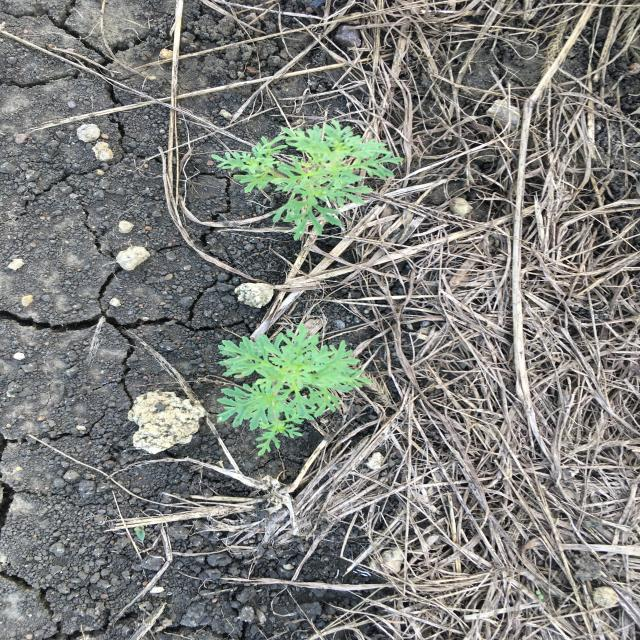Ragweed: (210, 115, 406, 242), (214, 319, 376, 459)
